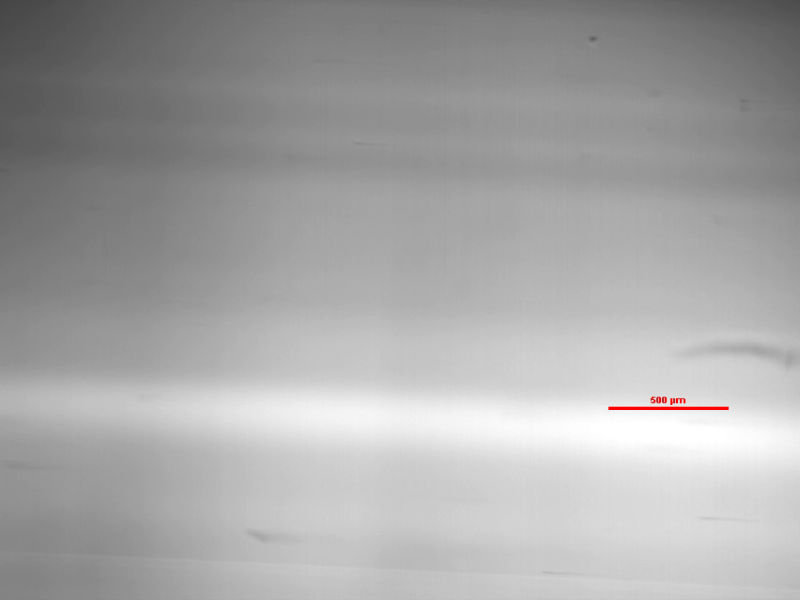fiber: (670, 330, 800, 379), (240, 524, 340, 549), (694, 510, 780, 528), (539, 566, 624, 582)
size: (608, 393, 729, 419)
